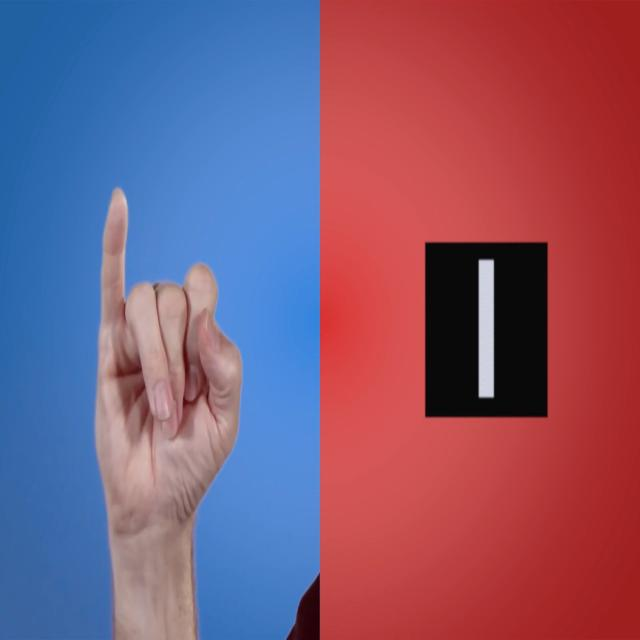I: (81, 159, 261, 640)
